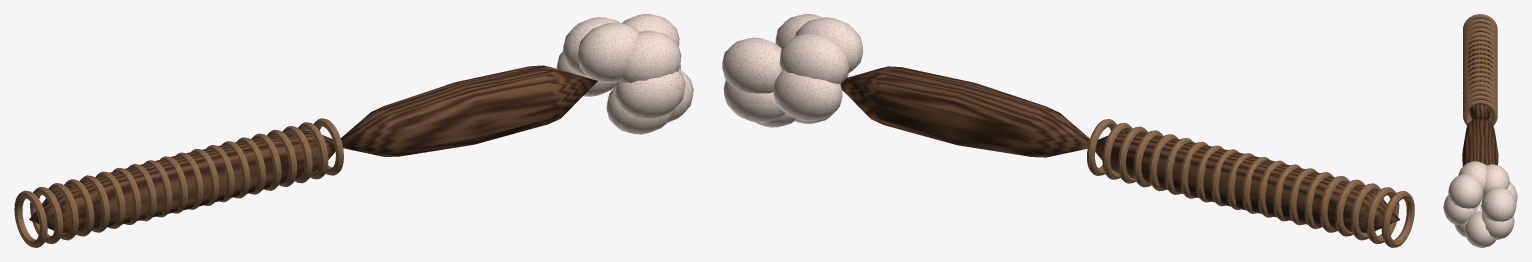
File: coralclub.glb
3 renders of one model, left to right at view 1: azimuth 30°, elevation 25°; view 2: azimuth 150°, elevation 25°; view 3: azimuth 270°, elevation 25°, orthographic. The views are drawn at different scales.
Parts seen in each view (by area): view 1: shaft, handle, coral6, coral4, coral1, coral7, wrap0, coral3, coral8, wrap1, wrap19, wrap2 (+18 smaller); view 2: shaft, handle, coral8, coral3, coral0, coral5, coral6, wrap0, wrap1, coral1, wrap19, wrap18 (+16 smaller); view 3: shaft, coral8, handle, coral1, coral2, coral3, coral4, coral5, coral6, wrap19, wrap18, wrap17 (+19 smaller).
Part boxes in pixels (left/top/right/bottom): shaft: left=341, top=65, right=597, bottom=156; handle: left=29, top=130, right=335, bottom=232; coral6: left=577, top=22, right=639, bottom=82; coral4: left=615, top=70, right=685, bottom=119; coral1: left=619, top=30, right=681, bottom=82; coral7: left=606, top=86, right=675, bottom=134; wrap0: left=14, top=190, right=47, bottom=247; coral3: left=563, top=17, right=620, bottom=76; coral8: left=622, top=14, right=679, bottom=46; wrap1: left=30, top=187, right=63, bottom=243; wrap19: left=314, top=118, right=343, bottom=175; wrap2: left=48, top=183, right=78, bottom=240; shaft: left=840, top=66, right=1089, bottom=157; handle: left=1095, top=131, right=1399, bottom=232; coral8: left=722, top=37, right=781, bottom=93; coral3: left=779, top=33, right=848, bottom=83; coral0: left=773, top=70, right=842, bottom=121; coral5: left=723, top=80, right=785, bottom=122; coral6: left=795, top=17, right=863, bottom=73; wrap0: left=1381, top=191, right=1414, bottom=247; wrap1: left=1366, top=187, right=1399, bottom=244; coral1: left=775, top=14, right=822, bottom=48; wrap19: left=1087, top=119, right=1116, bottom=175; wrap18: left=1102, top=123, right=1132, bottom=179; shaft: left=1462, top=117, right=1498, bottom=166; coral8: left=1481, top=187, right=1516, bottom=221; handle: left=1468, top=31, right=1492, bottom=119; coral1: left=1448, top=174, right=1483, bottom=208; coral2: left=1464, top=211, right=1496, bottom=247; coral3: left=1482, top=164, right=1509, bottom=197; coral4: left=1443, top=195, right=1477, bottom=225; coral5: left=1481, top=212, right=1514, bottom=239; coral6: left=1458, top=161, right=1486, bottom=189; wrap19: left=1463, top=99, right=1497, bottom=125; wrap18: left=1463, top=95, right=1497, bottom=121; wrap17: left=1463, top=90, right=1497, bottom=119.
Size of the model in its own units: 0.5112 by 0.0832 by 0.0837.
Materials: 1 (1 with a texture image).
